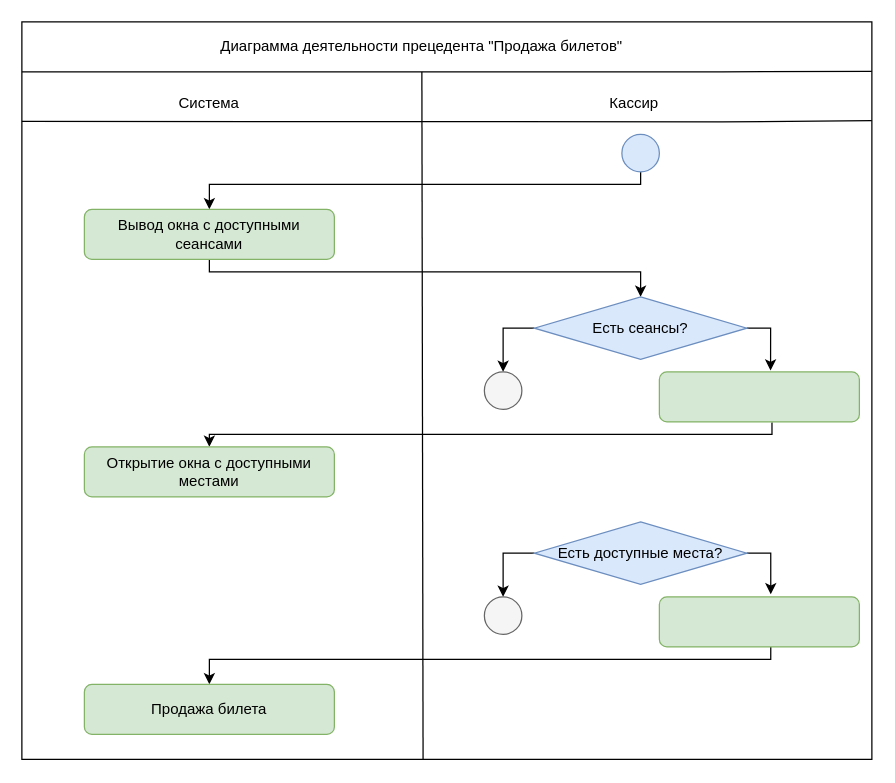
This 895x783 diagram has some shape labels left out. Each missing label, with the centre of its shape:
"Выбор места" goes at (758,621).
"Выбор сеанса" goes at (758,396).
